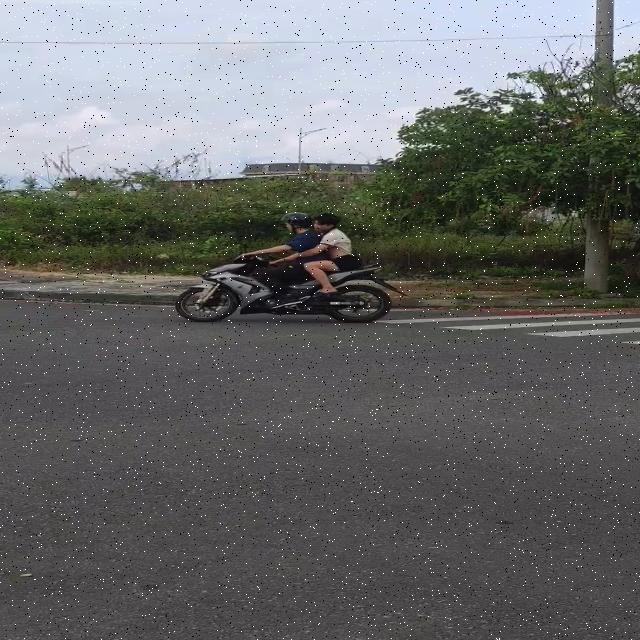helmet: (281, 212, 311, 242)
no_helmet: (313, 214, 354, 231)
